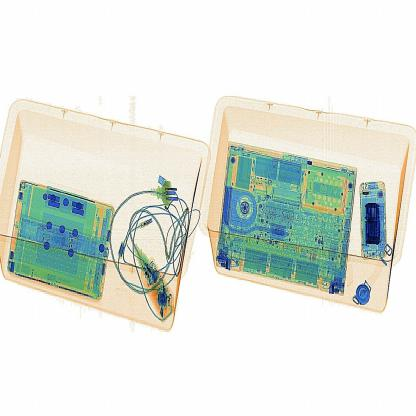scissors: (364, 197, 384, 246)
